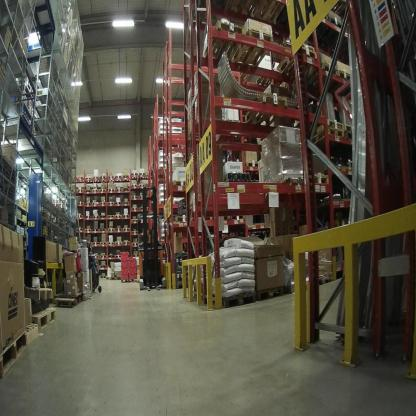forklift: (134, 182, 173, 300)
pallet: (198, 15, 246, 66), (231, 22, 279, 71), (242, 88, 287, 132), (1, 327, 34, 378), (277, 45, 319, 78), (302, 61, 339, 96), (315, 13, 347, 52), (202, 290, 257, 310), (271, 167, 308, 196), (248, 1, 288, 26), (20, 279, 56, 301), (51, 289, 83, 313), (309, 124, 342, 146), (331, 68, 357, 95), (306, 169, 334, 193), (32, 310, 62, 330), (259, 284, 287, 305), (222, 169, 252, 187), (26, 317, 43, 346), (310, 116, 344, 130), (342, 127, 359, 151), (314, 272, 336, 290), (164, 213, 189, 227), (116, 274, 139, 288), (170, 177, 189, 191), (232, 210, 247, 224), (83, 213, 93, 233), (204, 215, 218, 228), (344, 122, 359, 134), (245, 158, 258, 171), (217, 211, 230, 223), (86, 175, 94, 186), (115, 173, 122, 185), (93, 173, 100, 185), (106, 186, 116, 194), (116, 187, 124, 197), (121, 173, 129, 183), (131, 239, 139, 248), (123, 212, 133, 219), (105, 199, 115, 206), (108, 173, 115, 183), (106, 276, 119, 281), (130, 193, 138, 201), (115, 238, 123, 246), (92, 212, 100, 220), (114, 213, 122, 221), (122, 200, 130, 208), (77, 199, 85, 207), (85, 186, 93, 194), (130, 183, 139, 190), (131, 203, 140, 210), (114, 252, 121, 261), (100, 175, 107, 184), (78, 175, 85, 184), (123, 238, 130, 246), (99, 254, 106, 262), (131, 252, 138, 260), (76, 211, 83, 219), (106, 214, 115, 220), (107, 239, 114, 246), (100, 240, 107, 247), (108, 253, 115, 260), (139, 206, 147, 212), (92, 241, 100, 247), (123, 226, 131, 232), (99, 263, 107, 269), (84, 201, 92, 207), (74, 226, 82, 232), (76, 188, 84, 194), (92, 187, 100, 193), (130, 229, 139, 234), (91, 202, 100, 207), (115, 226, 122, 232), (99, 273, 106, 279), (100, 187, 106, 194), (131, 171, 139, 176), (130, 217, 138, 222), (91, 227, 99, 232), (116, 199, 121, 207), (139, 171, 145, 177), (100, 200, 106, 206), (99, 227, 106, 232), (138, 185, 146, 189), (107, 228, 115, 232), (101, 214, 106, 220), (92, 255, 99, 259)
small_load_carrier: (65, 253, 82, 281), (128, 257, 139, 265), (120, 251, 130, 259), (121, 266, 129, 275), (129, 272, 137, 281), (120, 259, 129, 266), (128, 265, 137, 272), (121, 275, 129, 281)
